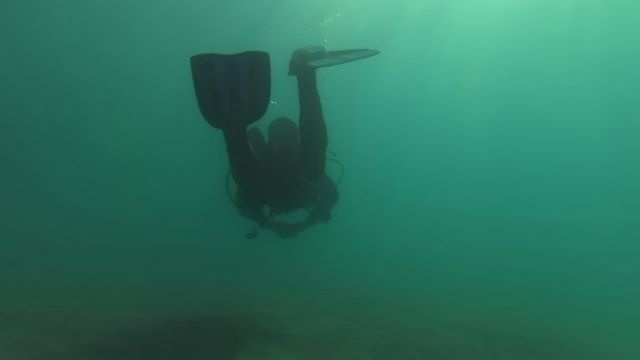Diver: (178, 37, 388, 253)
Hand: (267, 217, 296, 244), (284, 215, 308, 243)
